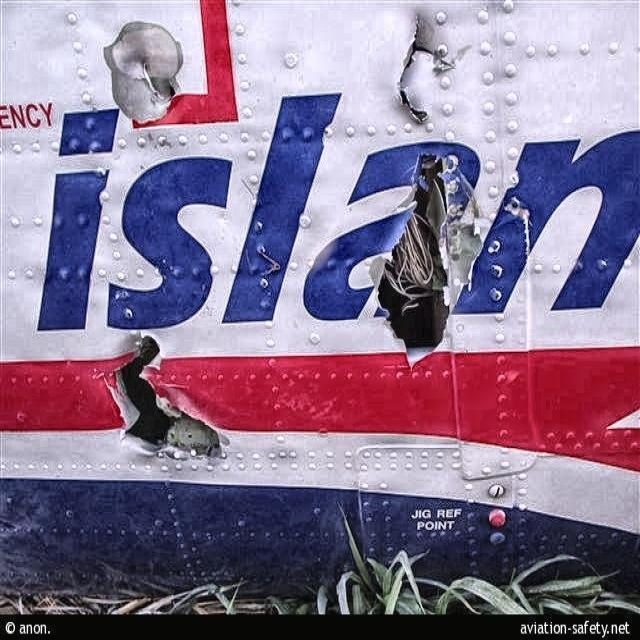Crack: (367, 147, 482, 380), (100, 329, 233, 466), (394, 5, 459, 129), (138, 54, 176, 105)
